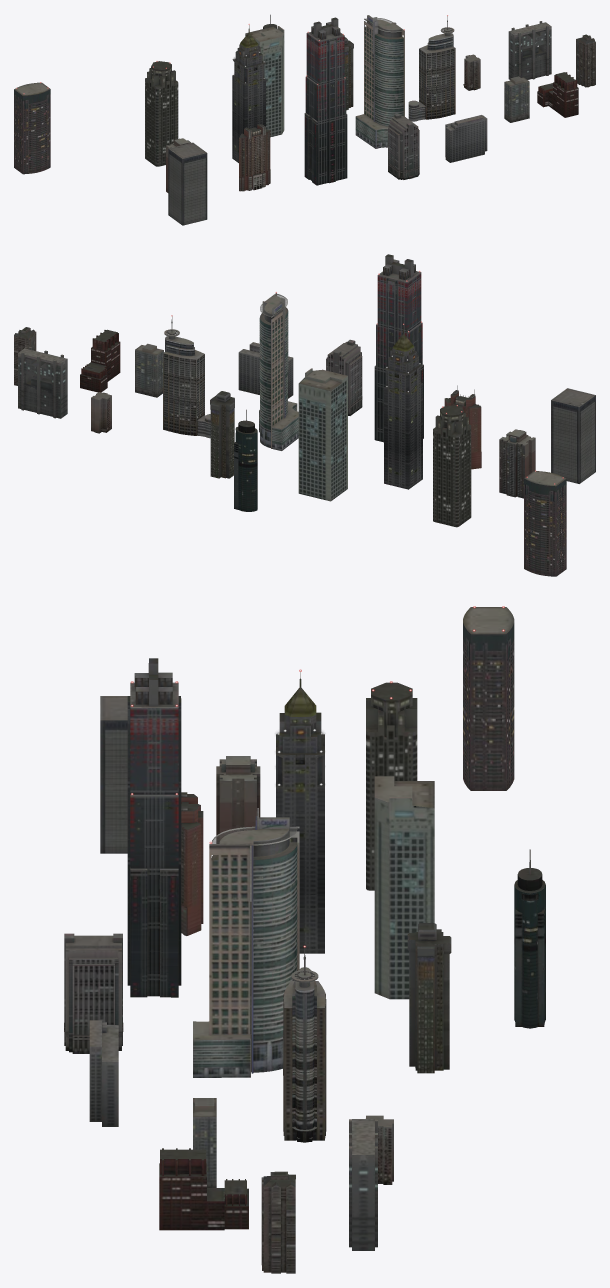
File: asian_themed_low_poly_night_city_buildings.glb
3 views of the same model, one above another, from view 1: azimuth 30°, elevation 25°; view 2: azimuth 150°, elevation 25°; view 3: azimuth 270°, elevation 25° (orthographic). The views are drawn at different scales.
Visible parts, largest first — view 1: BACKGROUND_BUILDINGS_1.001_BACKGROUND_BUILDINGS_1_0, BACKGROUND_BUILDING_2.001_BACKGROUND_BUILDING_2_0; view 2: BACKGROUND_BUILDINGS_1.001_BACKGROUND_BUILDINGS_1_0, BACKGROUND_BUILDING_2.001_BACKGROUND_BUILDING_2_0; view 3: BACKGROUND_BUILDINGS_1.001_BACKGROUND_BUILDINGS_1_0, BACKGROUND_BUILDING_2.001_BACKGROUND_BUILDING_2_0.
Part boxes in pixels (x1,y1,x2,y2): BACKGROUND_BUILDINGS_1.001_BACKGROUND_BUILDINGS_1_0: [14, 14, 595, 225]; BACKGROUND_BUILDING_2.001_BACKGROUND_BUILDING_2_0: [145, 15, 578, 179]; BACKGROUND_BUILDINGS_1.001_BACKGROUND_BUILDINGS_1_0: [14, 254, 595, 576]; BACKGROUND_BUILDING_2.001_BACKGROUND_BUILDING_2_0: [18, 293, 471, 527]; BACKGROUND_BUILDINGS_1.001_BACKGROUND_BUILDINGS_1_0: [100, 607, 545, 1273]; BACKGROUND_BUILDING_2.001_BACKGROUND_BUILDING_2_0: [64, 682, 434, 1250].
Size of the model in its own units: 1049 by 301 by 419.
Materials: 4 (4 with a texture image).
